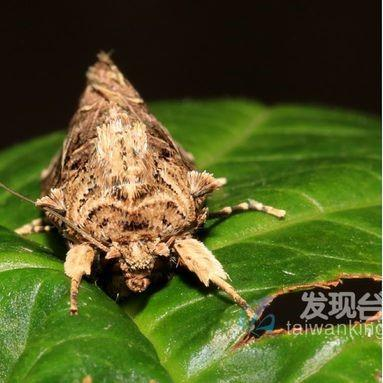Spodoptera litura: (1, 48, 286, 318)
